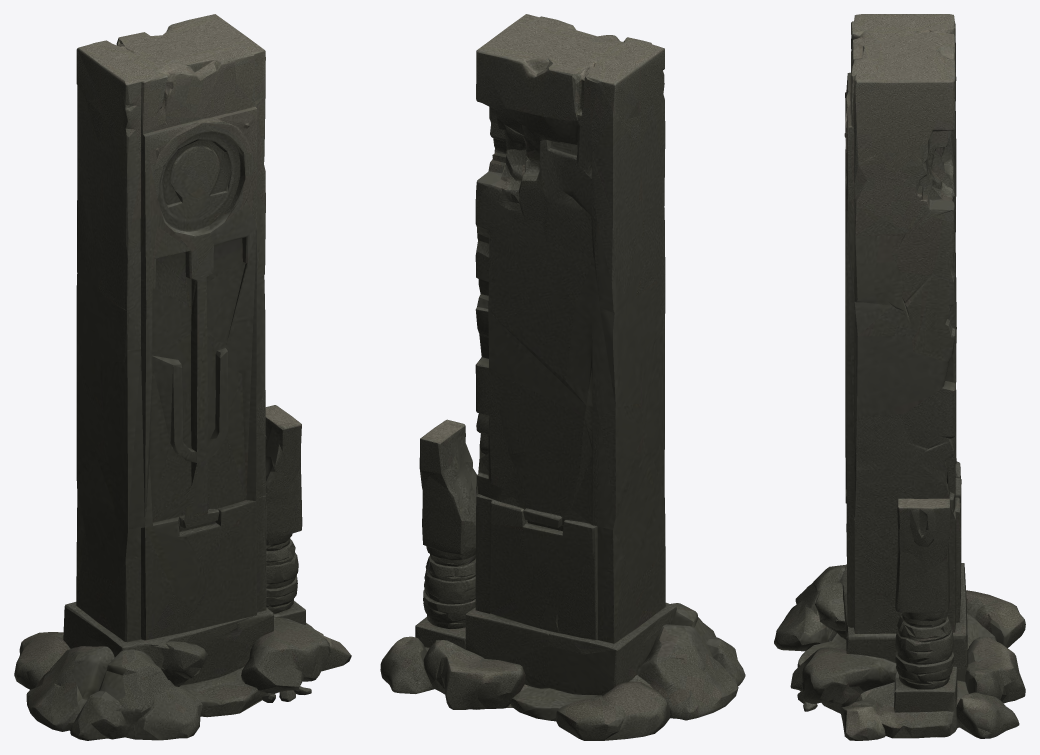
File: p_ruin.glb
3 renders of one model, left to right at view 1: azimuth 30°, elevation 25°; view 2: azimuth 150°, elevation 25°; view 3: azimuth 270°, elevation 25°, orthographic.
Size of the model in its own units: 0.9422 by 1.9 by 0.6986.
1 material, 1 textured.
